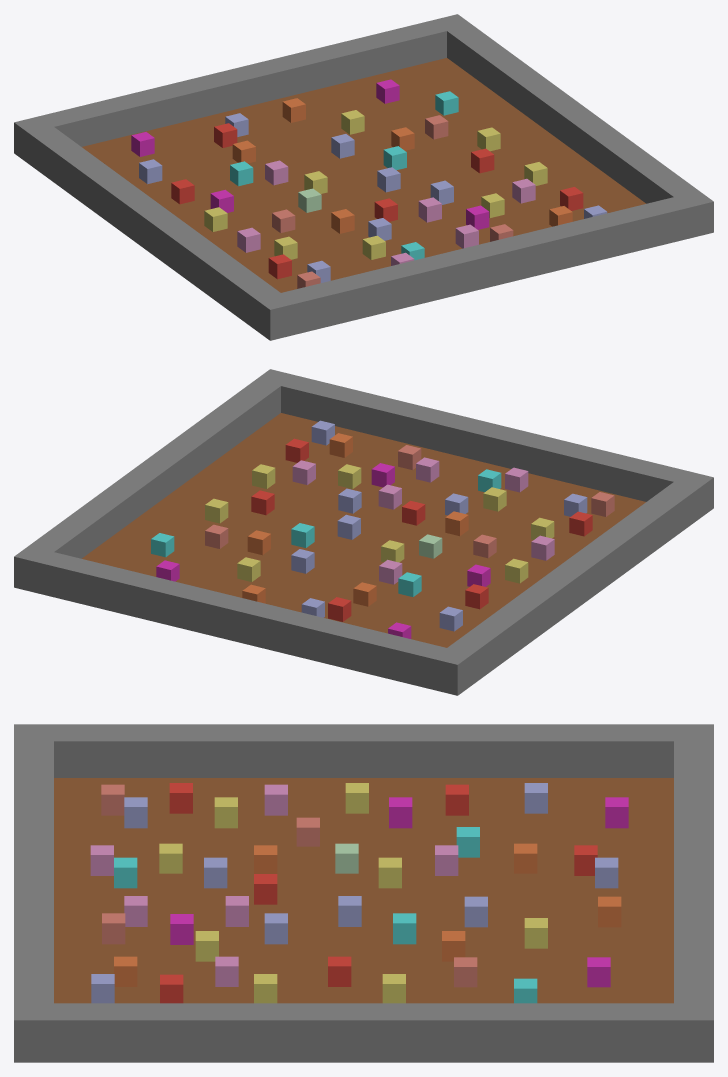
File: FlowerBed.fbx
The picture shows the model from 3 angles, top to bottom: view 1: azimuth 30°, elevation 25°; view 2: azimuth 150°, elevation 25°; view 3: azimuth 270°, elevation 25°; orthographic projection. The views are drawn at different scales.
Visible parts, largest first — view 1: Cube.017; view 2: Cube.017; view 3: Cube.017.
Boxes of the visible parts, left/top/right/bottom form: Cube.017: left=14, top=14, right=713, bottom=340; Cube.017: left=14, top=369, right=713, bottom=695; Cube.017: left=14, top=724, right=713, bottom=1062.
Bounding box in the file's own units: 750 × 50 × 750.
